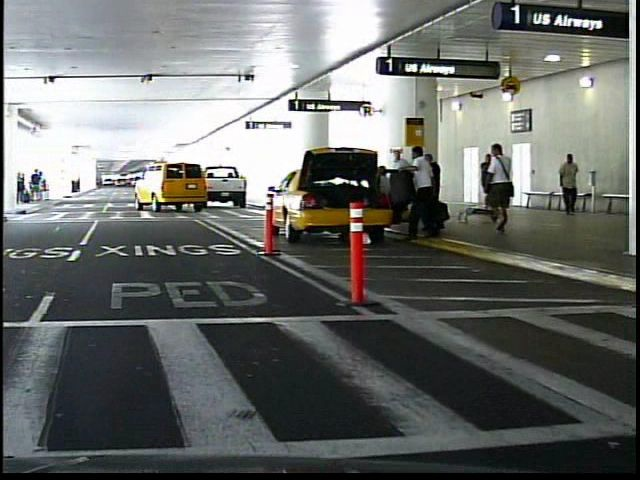person: (480, 141, 515, 237), (550, 150, 578, 216)
